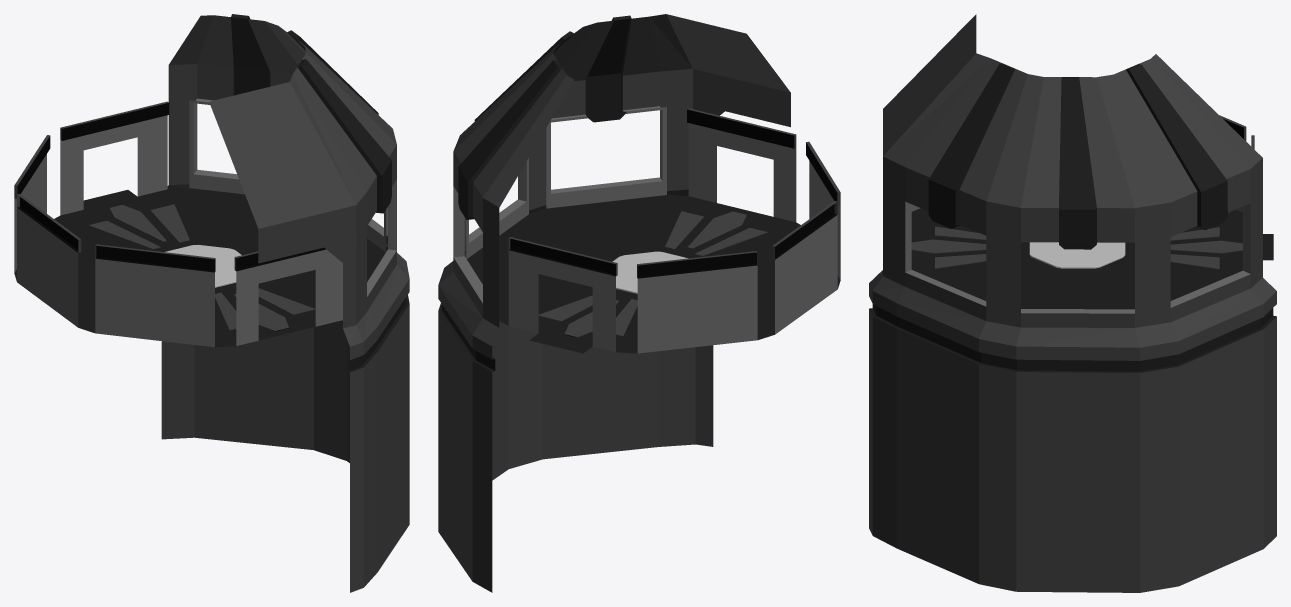
The model's file is env_test_interior_serverroom_A.FBX.
3 views of the same model, side by side, from view 1: azimuth 30°, elevation 25°; view 2: azimuth 150°, elevation 25°; view 3: azimuth 270°, elevation 25° (orthographic).
Visible parts, largest first — view 1: serverroom_A; view 2: serverroom_A; view 3: serverroom_A.
Boxes of the visible parts, x1,y1,x2,y2 form: serverroom_A: (14, 14, 409, 592); serverroom_A: (438, 14, 840, 592); serverroom_A: (869, 14, 1276, 592).
Bounding box in the file's own units: 722 × 989 × 773.
